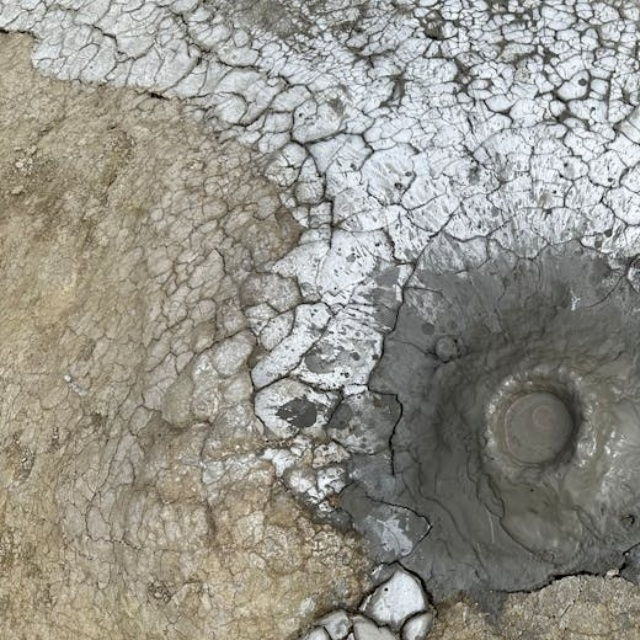网状裂隙: (201, 51, 640, 640), (235, 168, 640, 582), (263, 26, 593, 514), (370, 182, 640, 640), (199, 49, 450, 451), (28, 35, 100, 516), (300, 562, 473, 640)
